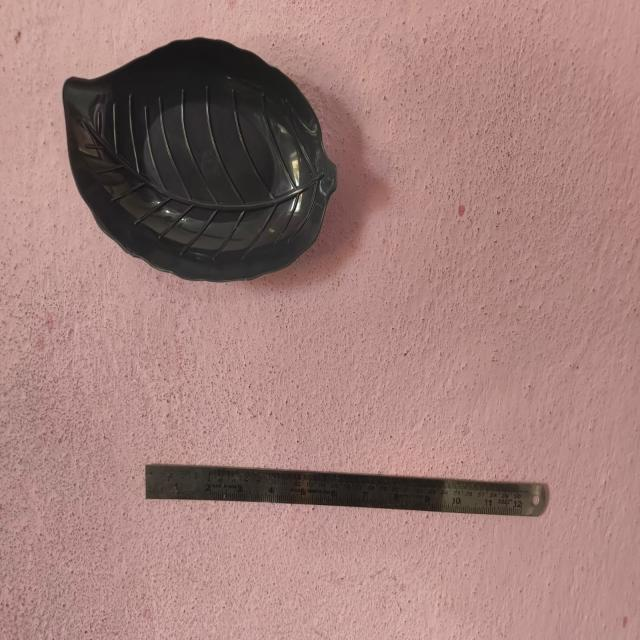pen: (62, 32, 344, 290)
plate: (141, 453, 550, 531)
